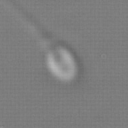normal: (3, 1, 54, 46)
